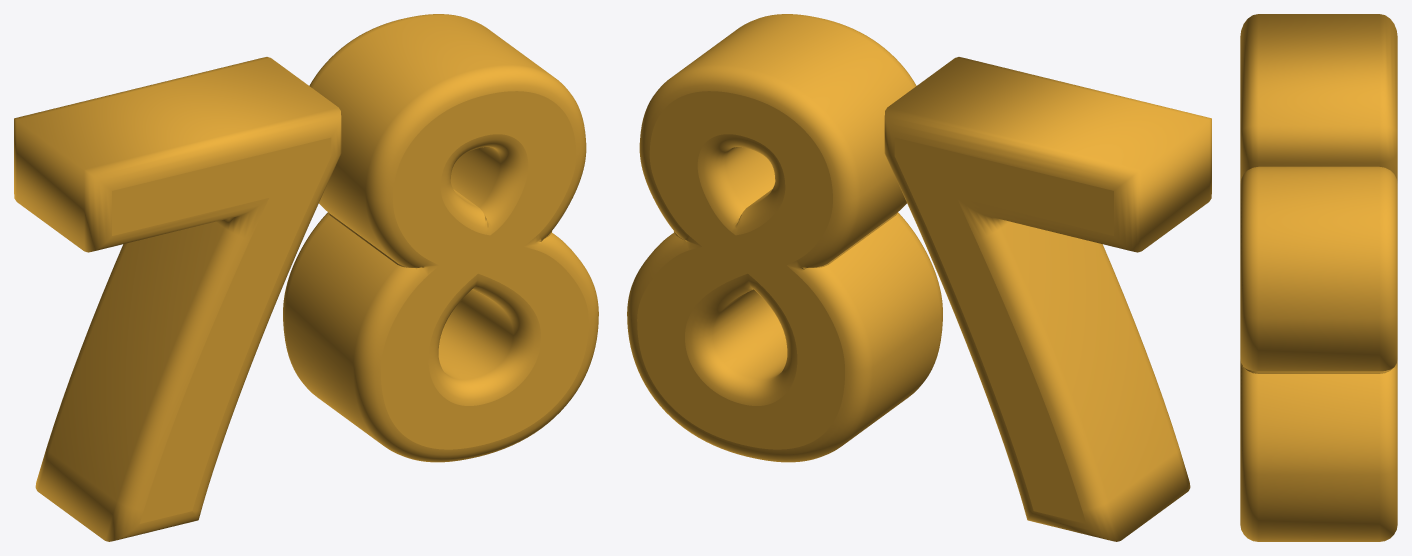
The picture shows the model from 3 angles, left to right: view 1: azimuth 30°, elevation 25°; view 2: azimuth 150°, elevation 25°; view 3: azimuth 270°, elevation 25°; orthographic projection. The views are drawn at different scales.
Visible parts, largest first — view 1: Text; view 2: Text; view 3: Text.
Boxes of the visible parts, left/top/right/bottom form: Text: left=14, top=14, right=598, bottom=541; Text: left=627, top=14, right=1211, bottom=541; Text: left=1240, top=14, right=1397, bottom=541.
Bounding box in the file's own units: 87.48 × 63.02 × 26.
